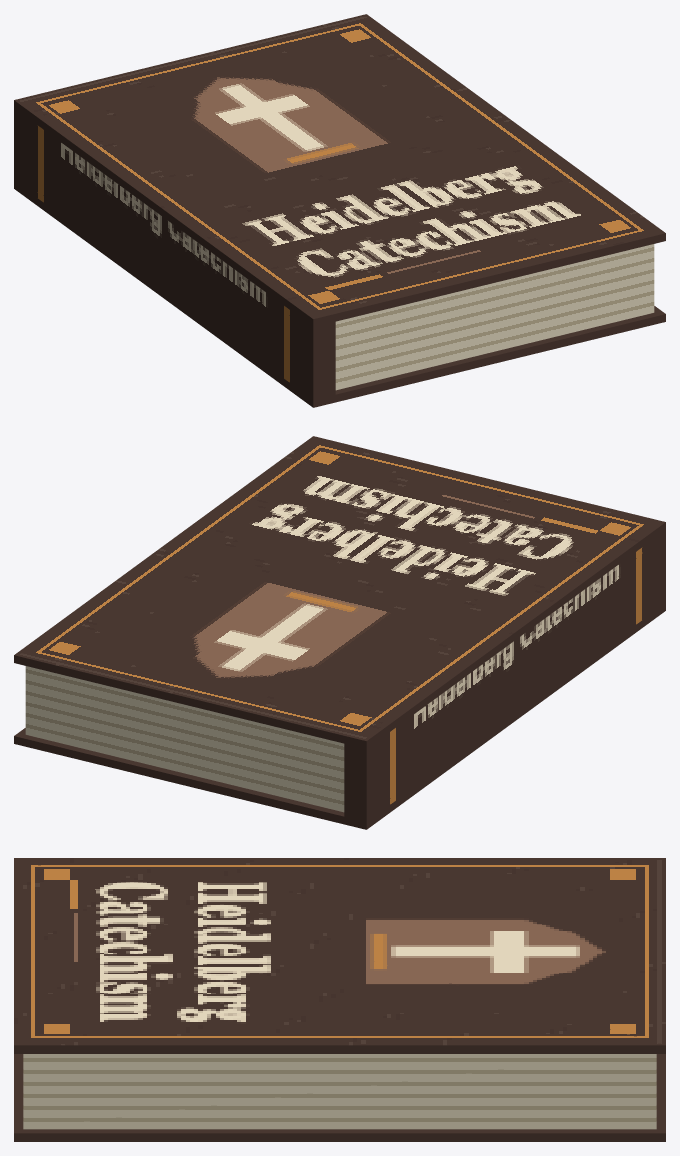
Rendered from holybook_catechism5.glb.
The picture shows the model from 3 angles, top to bottom: view 1: azimuth 30°, elevation 25°; view 2: azimuth 150°, elevation 25°; view 3: azimuth 270°, elevation 25°; orthographic projection. The views are drawn at different scales.
Parts seen in each view (by area): view 1: block_front cover, block_spine, block_page block, block_back cover; view 2: block_front cover, block_spine, block_page block, block_back cover; view 3: block_front cover, block_page block, block_back cover.
Part boxes in pixels (left/top/right/bottom): block_front cover: left=14, top=14, right=665, bottom=326; block_spine: left=14, top=108, right=335, bottom=399; block_page block: left=335, top=244, right=654, bottom=390; block_back cover: left=14, top=181, right=665, bottom=407; block_front cover: left=14, top=436, right=665, bottom=748; block_spine: left=344, top=530, right=665, bottom=821; block_page block: left=25, top=666, right=344, bottom=812; block_back cover: left=14, top=603, right=665, bottom=829; block_front cover: left=14, top=858, right=665, bottom=1053; block_page block: left=23, top=1054, right=656, bottom=1129; block_back cover: left=14, top=1054, right=665, bottom=1141.
Bounding box in the file's own units: 0.1414 × 0.034 × 0.208.
1 material, 1 textured.
